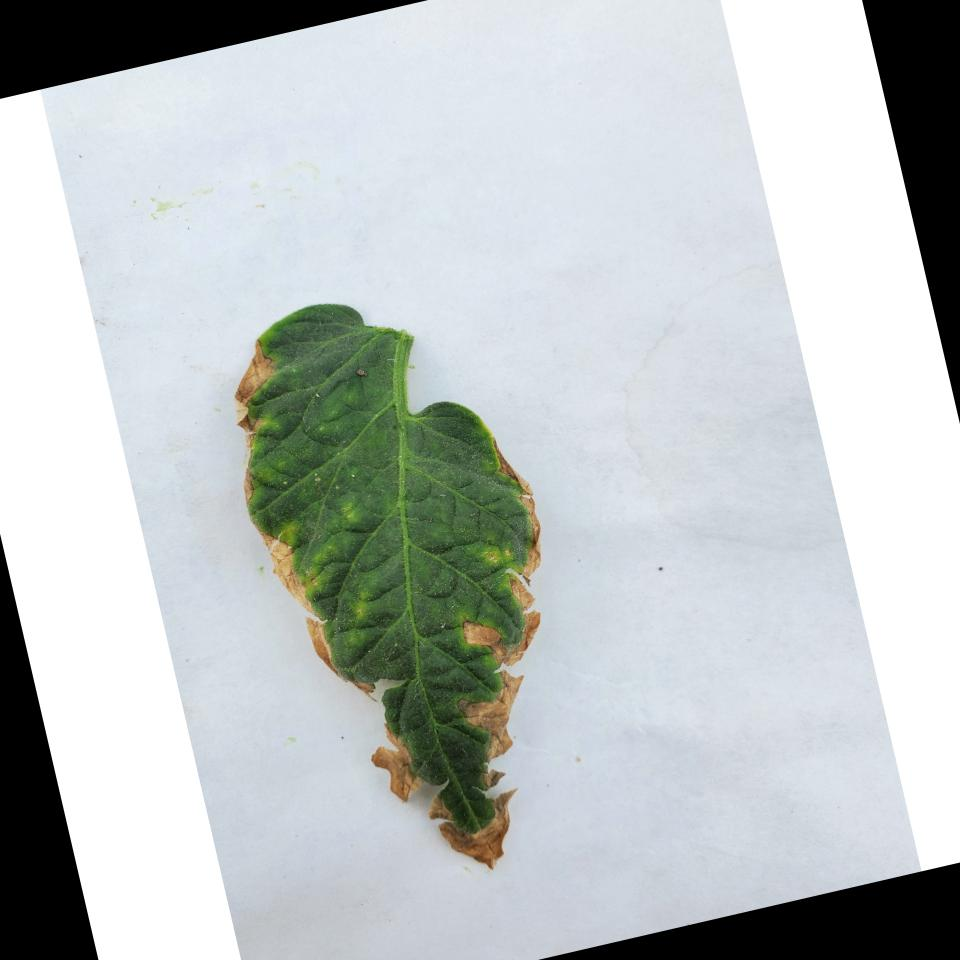tomato_bacterial_blight: (190, 254, 624, 921)
